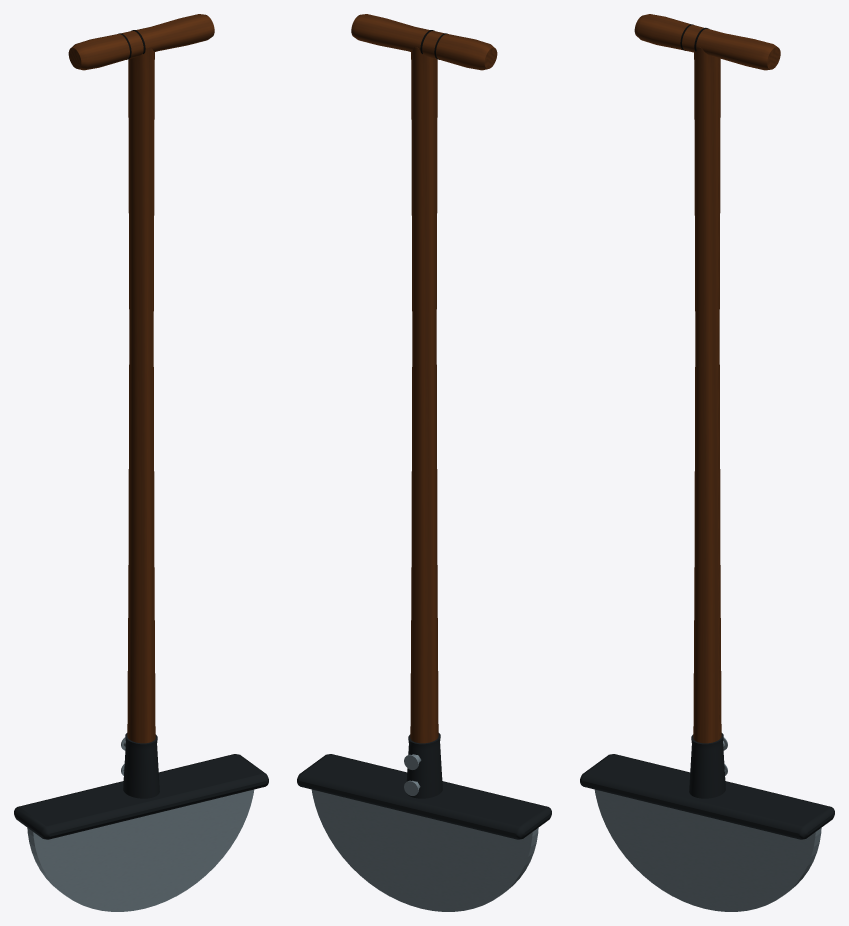
File: HalfMoonEdger.gltf
The picture shows the model from 3 angles, left to right: view 1: azimuth 30°, elevation 25°; view 2: azimuth 150°, elevation 25°; view 3: azimuth 330°, elevation 25°; orthographic projection.
Visible parts, largest first — view 1: HalfMoonEdger__Body; view 2: HalfMoonEdger__Body; view 3: HalfMoonEdger__Body.
Boxes of the visible parts, bbox=[...] form: HalfMoonEdger__Body: bbox=[14, 14, 268, 911]; HalfMoonEdger__Body: bbox=[297, 14, 551, 911]; HalfMoonEdger__Body: bbox=[580, 14, 834, 911].
Size of the model in its own units: 0.3332 by 1.23 by 0.084.
Materials: 1 (1 with a texture image).
